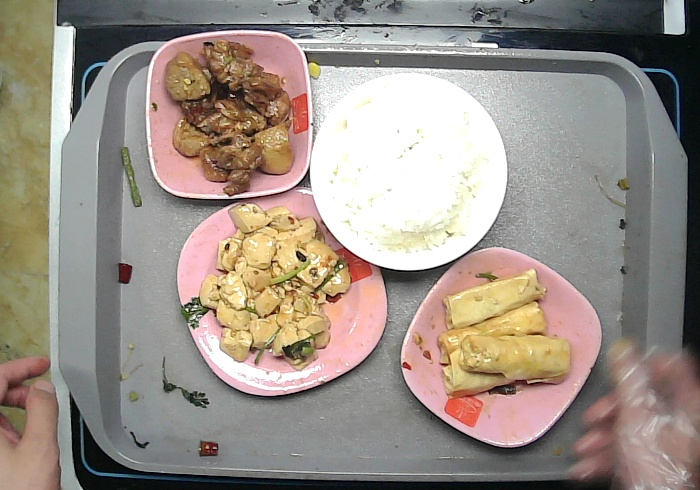SHKJ-Fan_Wan: (312, 75, 509, 268)
SHKJ-Fen_Se_Cai_Die: (400, 247, 603, 450)
SHKJ-Fen_Se_Si_Fang_Cai_Die: (177, 188, 387, 393)
SHKJ-Fen_Se_Xiao_Fang_Die: (146, 30, 311, 197)
